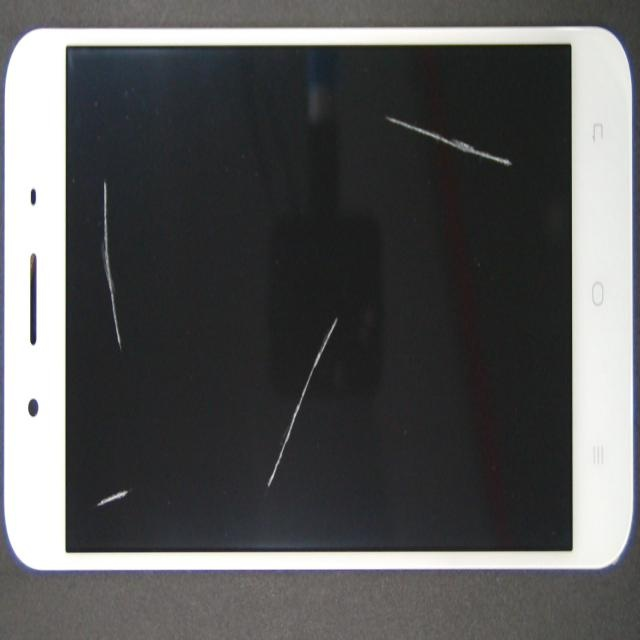scratch: (203, 58, 464, 530), (344, 112, 640, 208)
